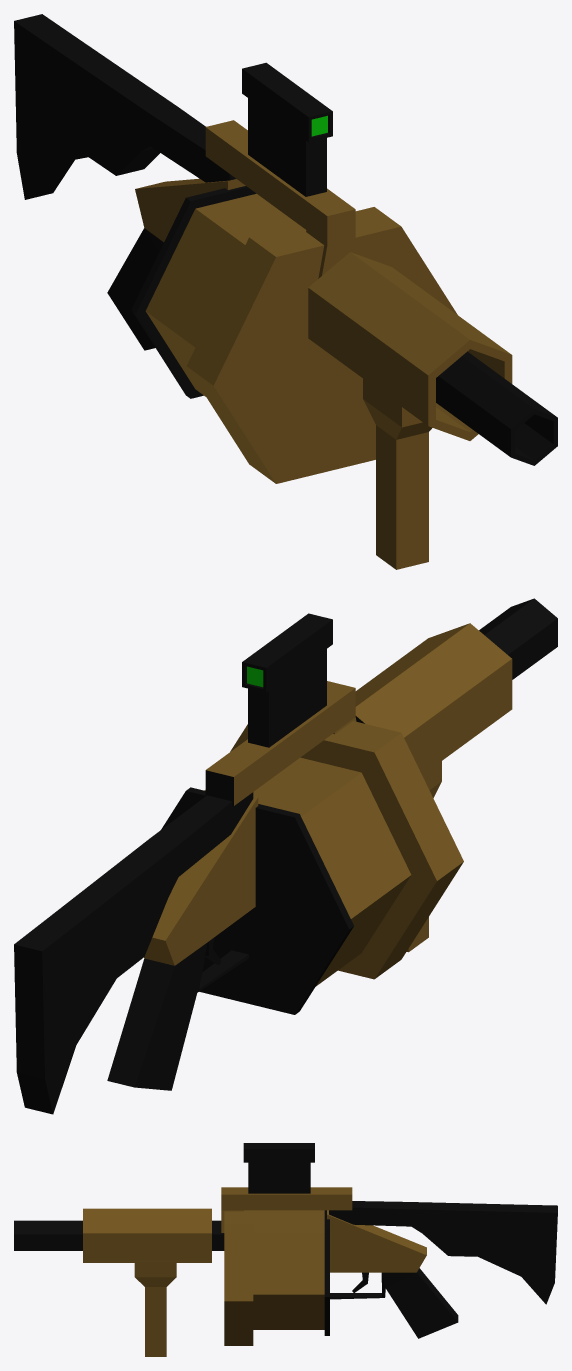
Rendered from M32_Grenade_Launcher.obj.
The picture shows the model from 3 angles, top to bottom: view 1: azimuth 30°, elevation 25°; view 2: azimuth 150°, elevation 25°; view 3: azimuth 270°, elevation 25°; orthographic projection. The views are drawn at different scales.
Parts seen in each view (by area): view 1: M32_Grenade_Launcher_Cube.003; view 2: M32_Grenade_Launcher_Cube.003; view 3: M32_Grenade_Launcher_Cube.003.
Part boxes in pixels (left/top/right/bottom): M32_Grenade_Launcher_Cube.003: left=14, top=14, right=557, bottom=569; M32_Grenade_Launcher_Cube.003: left=14, top=598, right=557, bottom=1114; M32_Grenade_Launcher_Cube.003: left=14, top=1143, right=557, bottom=1356.
Size of the model in its own units: 0.2226 by 0.3265 by 0.7794.
